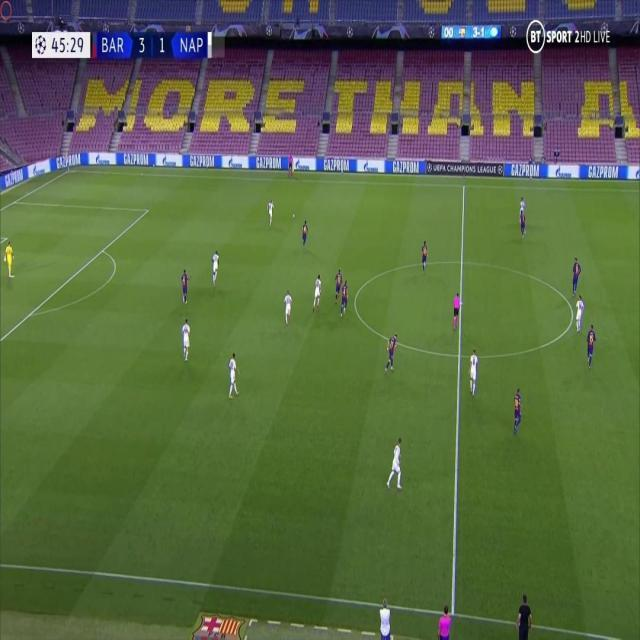ball: (292, 211, 295, 218)
goalkeeper: (4, 239, 15, 280)
player: (386, 437, 405, 492), (227, 350, 241, 399), (585, 322, 598, 370), (468, 346, 480, 396), (511, 386, 523, 435), (384, 331, 397, 372), (181, 315, 192, 363), (571, 256, 583, 296), (574, 293, 586, 332), (179, 267, 191, 305), (311, 272, 322, 313), (282, 286, 293, 325), (333, 267, 343, 308), (518, 193, 527, 238), (211, 247, 221, 286), (340, 278, 349, 317), (420, 238, 429, 273), (266, 196, 275, 226), (301, 218, 309, 248)
referee: (433, 599, 456, 640), (451, 290, 461, 331), (288, 151, 294, 179)
